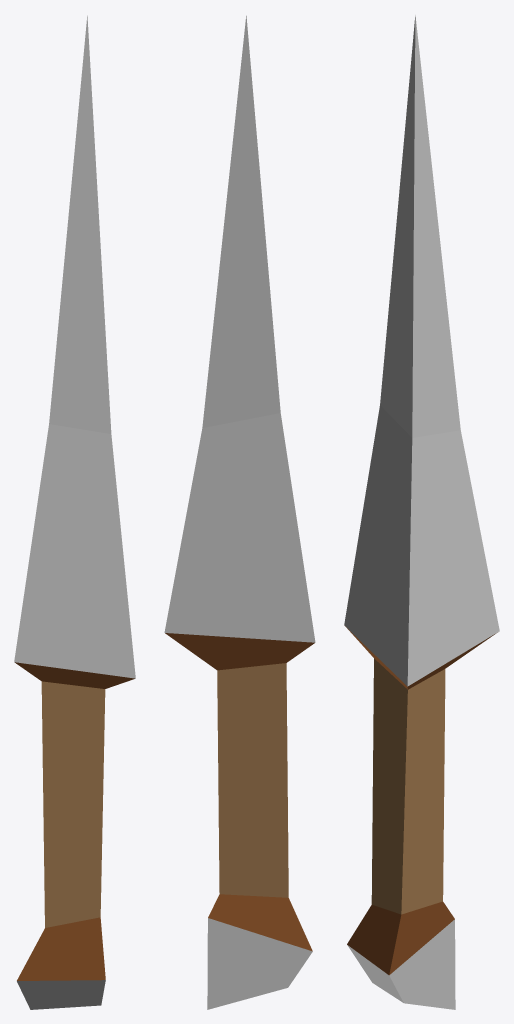
File: Low Poly Weapon Pack - by Kickin It Studios.fbx_Bone_Shiv.glb
3 views of the same model, side by side, from view 1: azimuth 30°, elevation 25°; view 2: azimuth 150°, elevation 25°; view 3: azimuth 330°, elevation 25° (orthographic). The views are drawn at different scales.
Parts seen in each view (by area): view 1: Bone Shiv; view 2: Bone Shiv; view 3: Bone Shiv.
Boxes of the visible parts, x1=… form: Bone Shiv: x1=14, y1=15, x2=135, y2=1009; Bone Shiv: x1=164, y1=15, x2=315, y2=1009; Bone Shiv: x1=344, y1=15, x2=499, y2=1009.
Size of the model in its own units: 0.0923 by 0.7142 by 0.0764.
